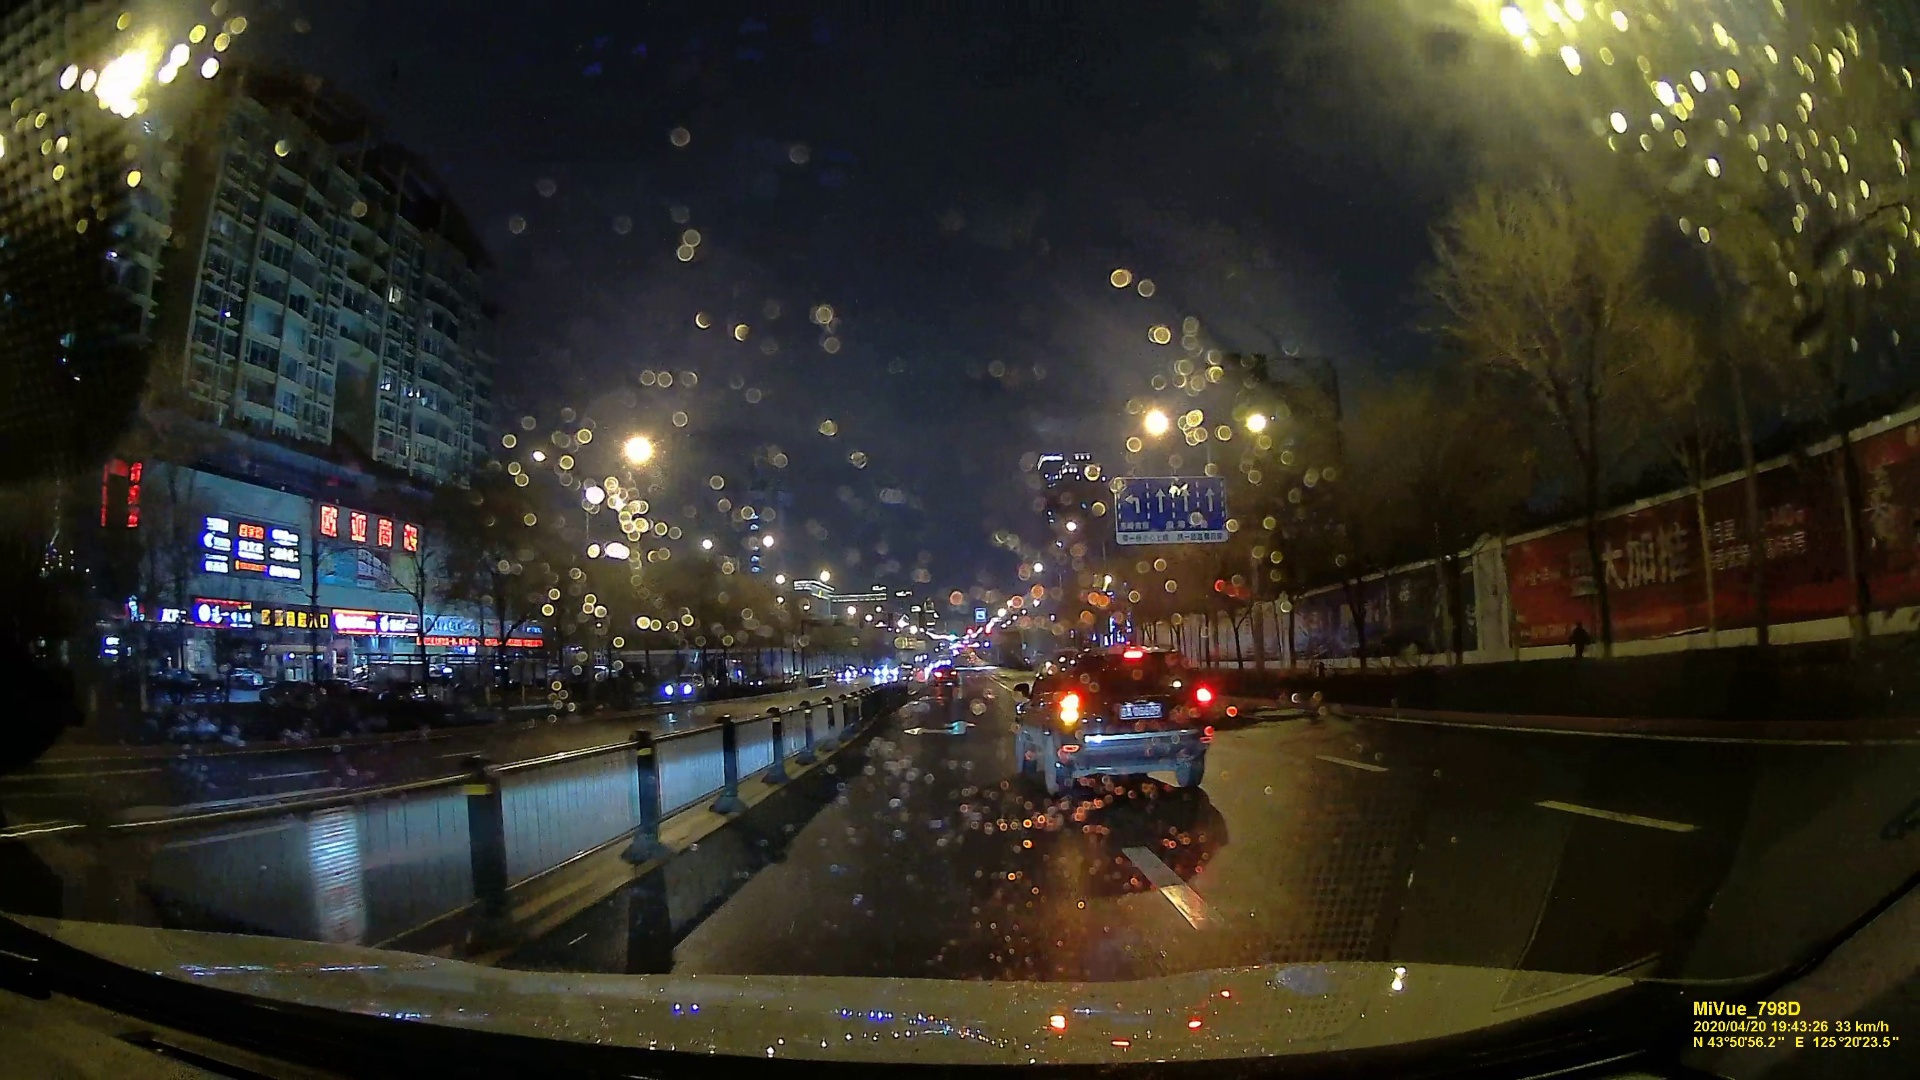traffic_sign: (1116, 479, 1225, 541)
vehicle: (1018, 649, 1212, 799), (659, 674, 705, 700), (932, 665, 959, 684)
